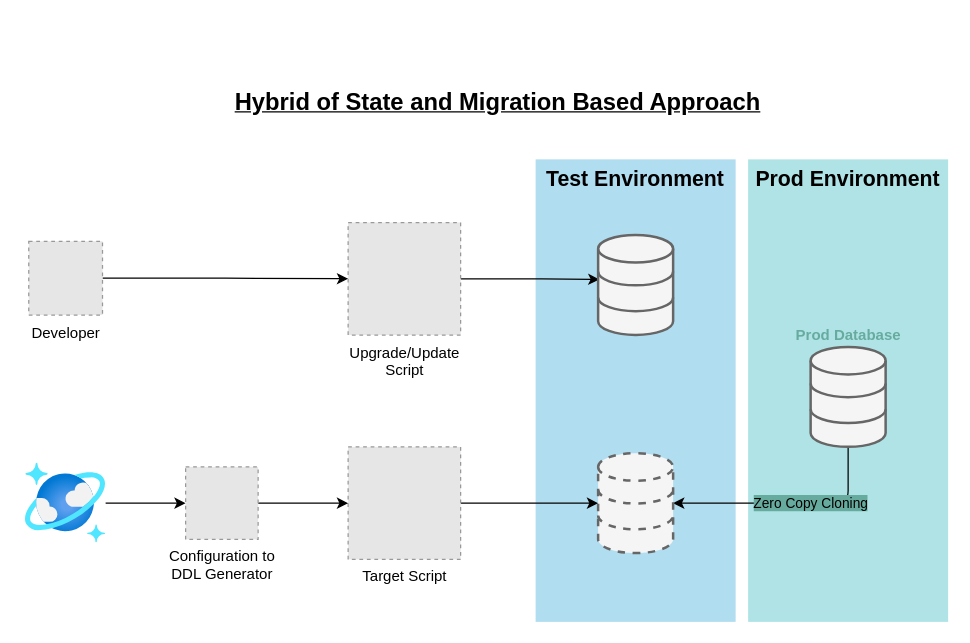
Image size: 970x643. Some labels were removed from this diagram. Grey dashed boxes stand in for pictures. The centre of each missing label's shape, as x and y in pixels:
"Table Level Configuration Data Store" goes at (x=65, y=502).
"Test Database A" goes at (x=635, y=284).
"Test Database B" goes at (x=635, y=502).
